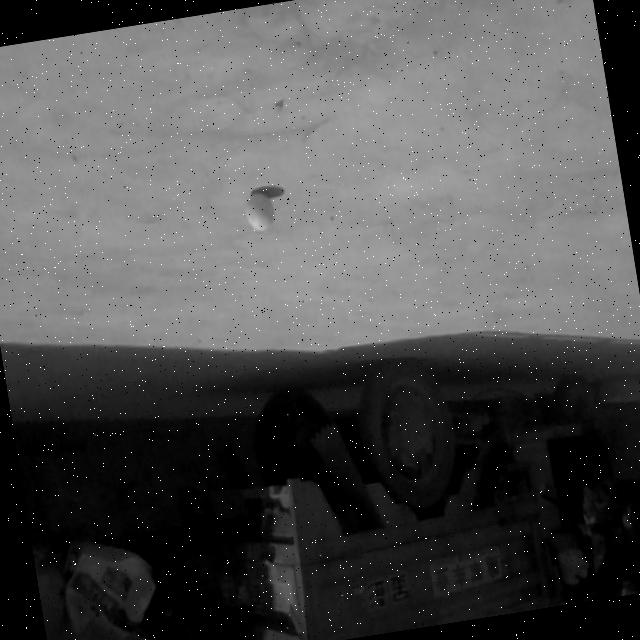ping-pong-ball: (243, 190, 274, 232)
